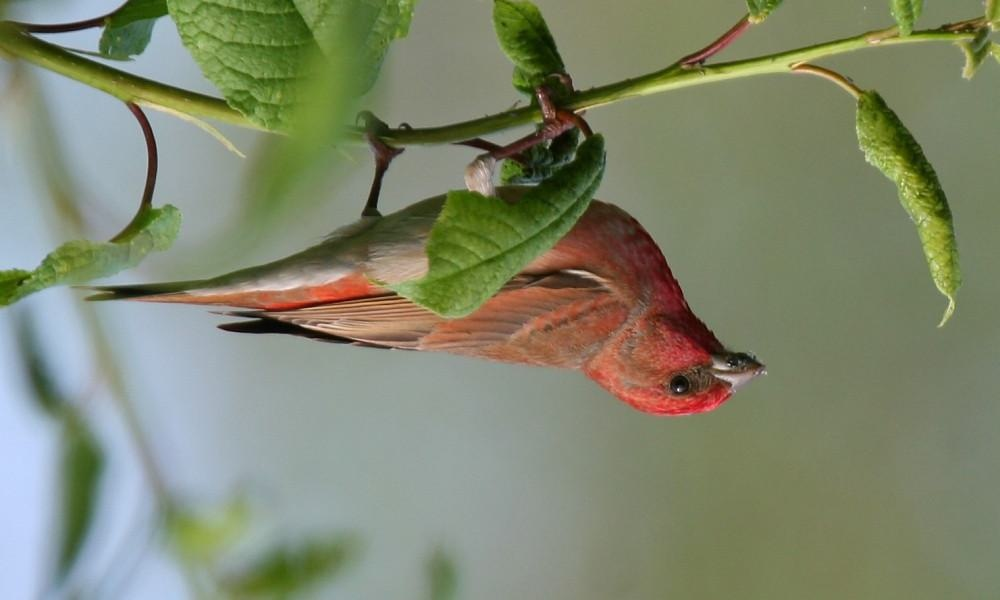rosefinch: (126, 139, 819, 432)
